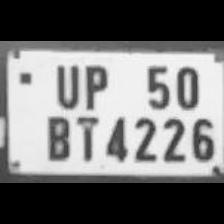0: (170, 61, 202, 109)
2: (127, 112, 158, 162), (156, 113, 186, 164)
4: (102, 112, 131, 162)
5: (140, 62, 170, 110)
6: (188, 113, 216, 164)
B: (41, 111, 72, 161)
P: (77, 61, 109, 111)
T: (72, 113, 100, 161)
U: (50, 59, 80, 107)
